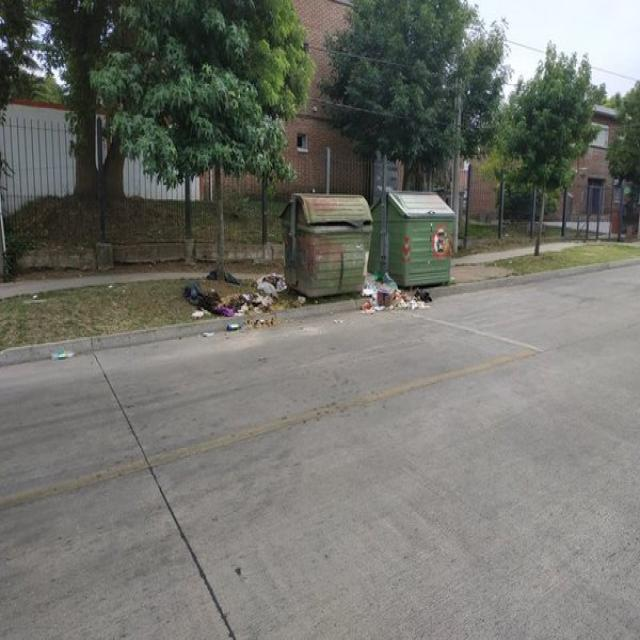garbage: (189, 266, 295, 331), (360, 267, 424, 320)
